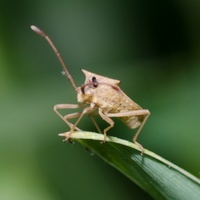insect: (30, 25, 149, 153)
